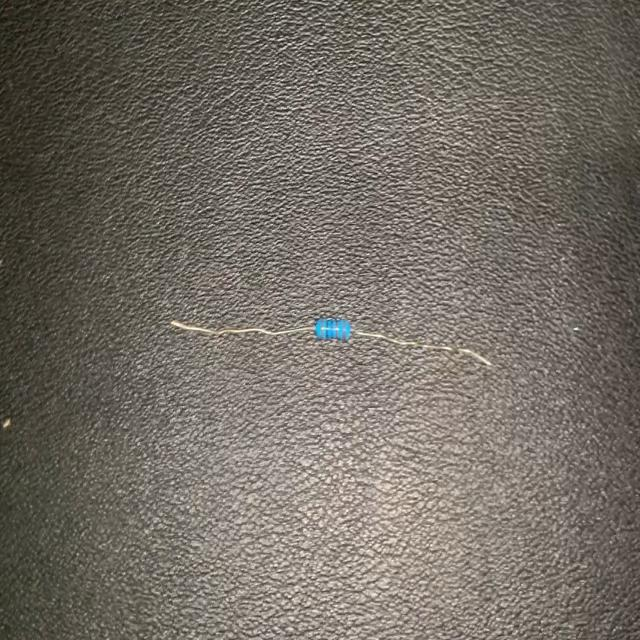resistor: (167, 304, 498, 378)
